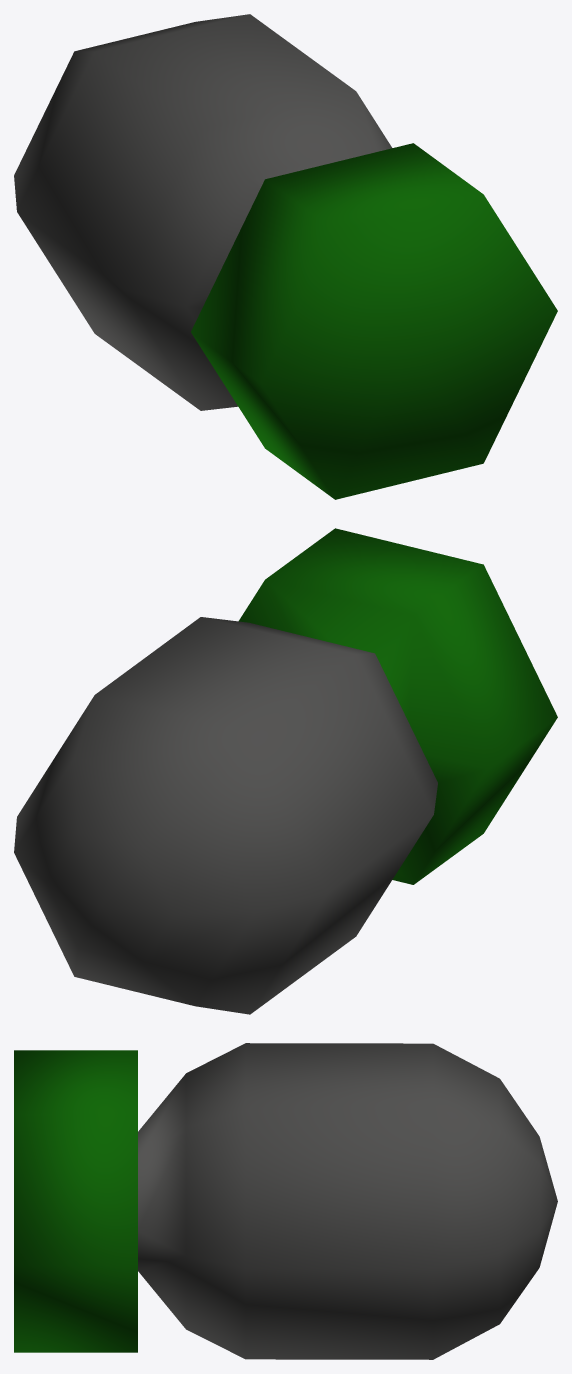
Rendered from bomb.fbx.
3 views of the same model, one above another, from view 1: azimuth 30°, elevation 25°; view 2: azimuth 150°, elevation 25°; view 3: azimuth 270°, elevation 25° (orthographic). The views are drawn at different scales.
Parts seen in each view (by area): view 1: Bomb; view 2: Bomb; view 3: Bomb.
Boxes of the visible parts, bbox=[...] form: Bomb: bbox=[14, 14, 557, 499]; Bomb: bbox=[14, 528, 557, 1014]; Bomb: bbox=[14, 1043, 557, 1359].
Bounding box in the file's own units: 95.31 × 82.67 × 163.
